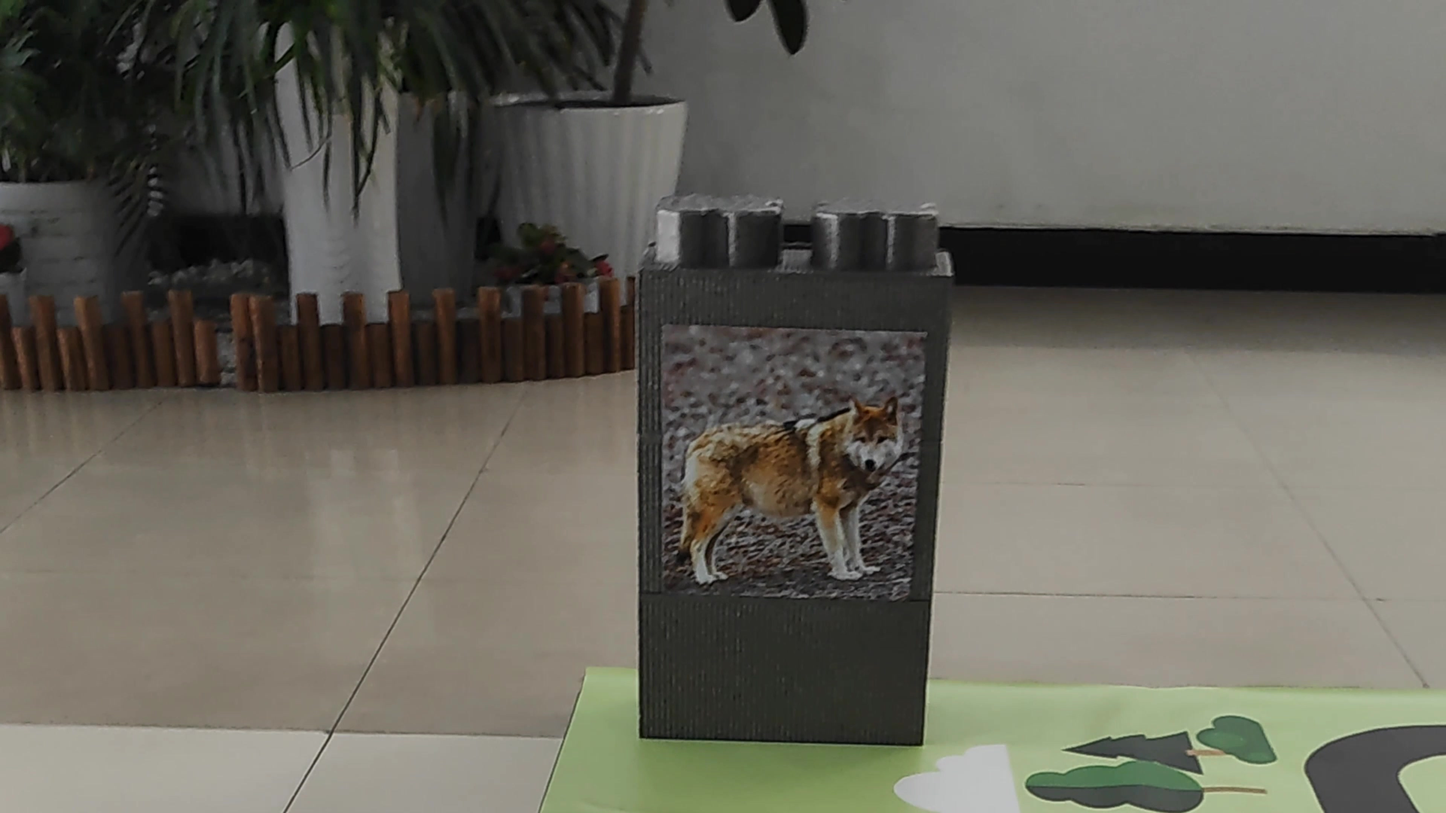wolf: (676, 316, 909, 600)
